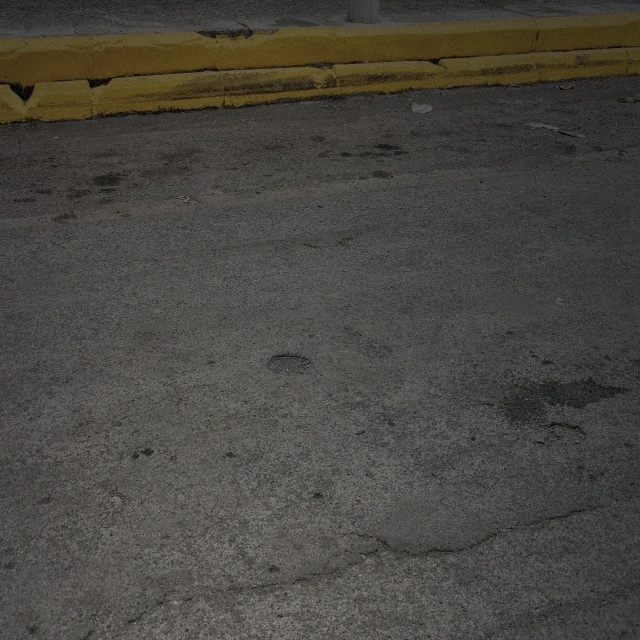pothole: (267, 346, 312, 380), (548, 418, 586, 452)
